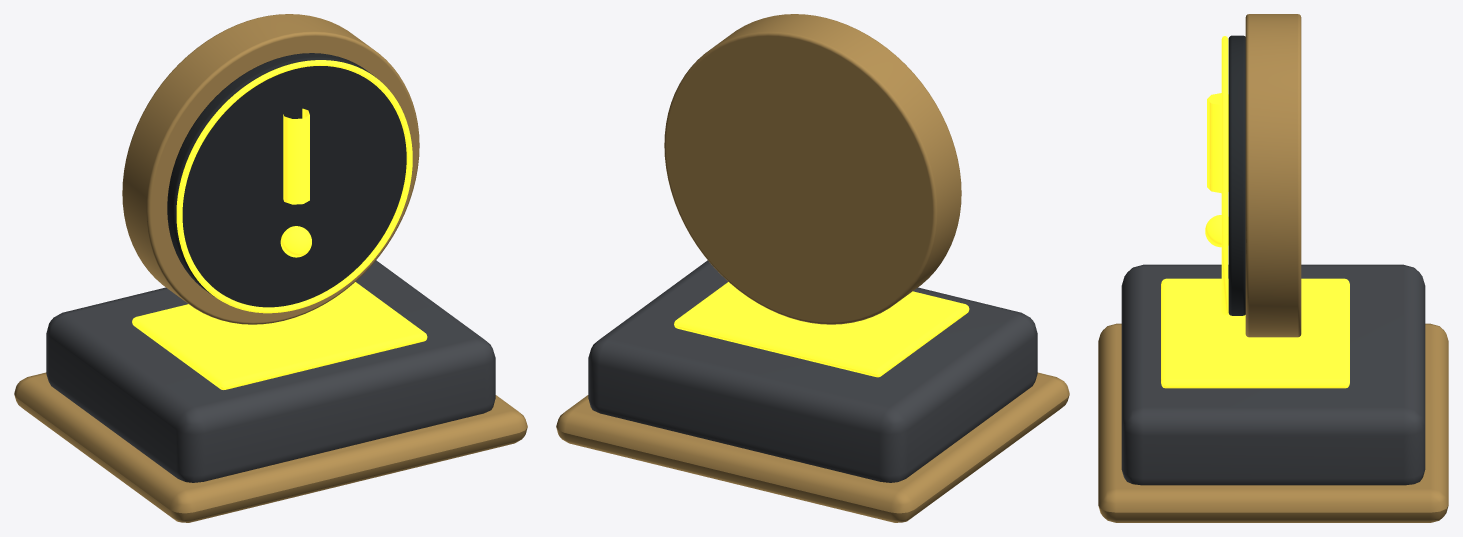
Rendered from estacoes_medalhao_alerta.glb.
3 views of the same model, side by side, from view 1: azimuth 30°, elevation 25°; view 2: azimuth 150°, elevation 25°; view 3: azimuth 270°, elevation 25° (orthographic). The views are drawn at different scales.
Parts seen in each view (by area): view 1: medalhao_alerta; view 2: medalhao_alerta; view 3: medalhao_alerta.
Part boxes in pixels (left/top/right/bottom): medalhao_alerta: left=14, top=14, right=527, bottom=522; medalhao_alerta: left=556, top=14, right=1069, bottom=522; medalhao_alerta: left=1098, top=14, right=1448, bottom=522.
Bounding box in the file's own units: 0.235 × 0.252 × 0.195.
